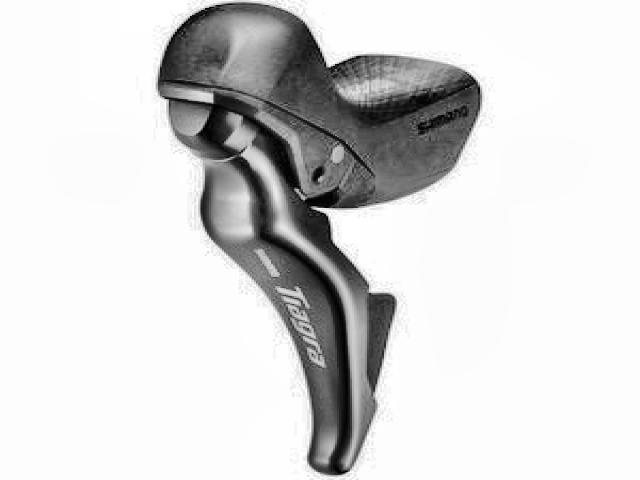sti_shifter: (161, 1, 472, 478)
